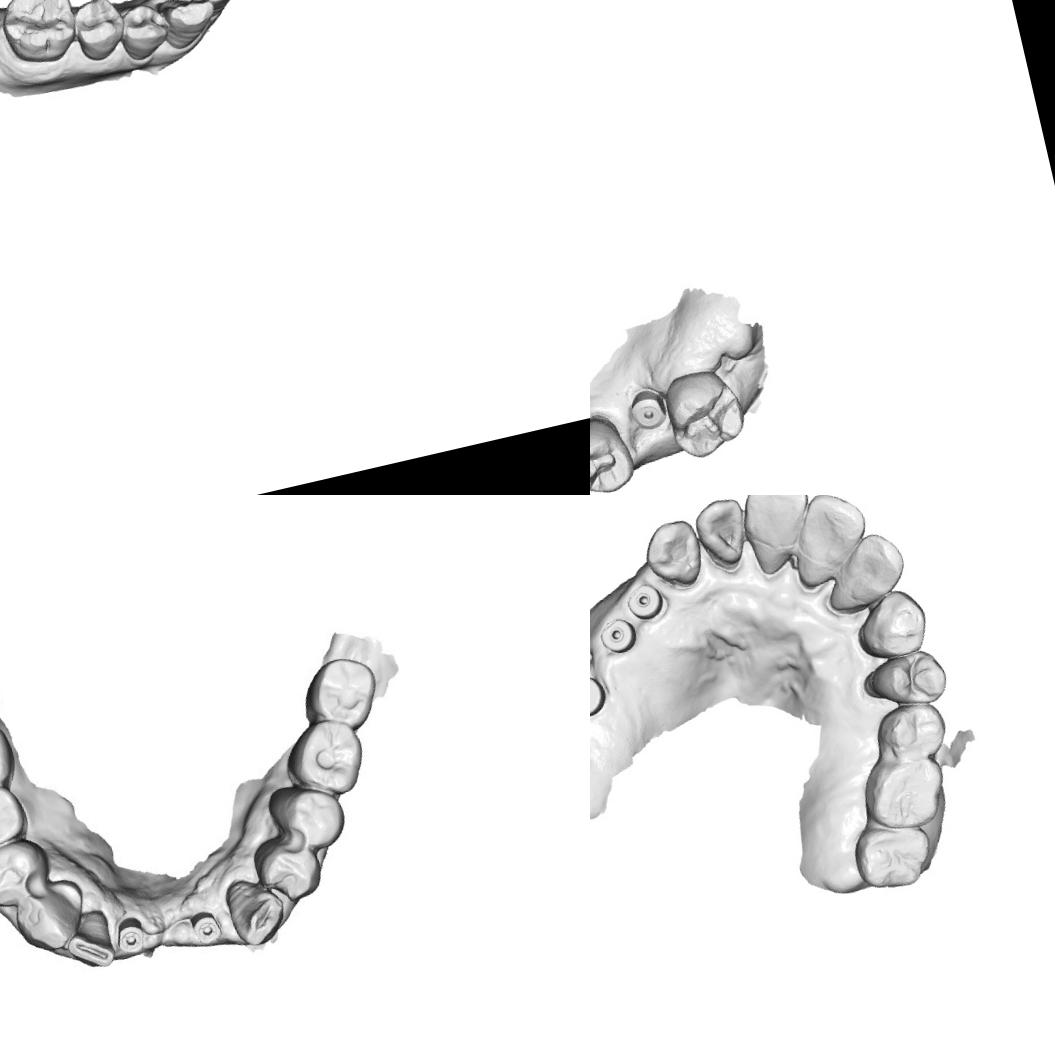canine: (848, 583, 934, 665), (10, 880, 90, 956), (219, 872, 294, 952), (638, 514, 708, 594), (158, 0, 221, 52)
implant: (624, 387, 670, 434), (622, 580, 669, 625), (596, 615, 640, 658), (590, 671, 611, 723)
implant_plus: (184, 905, 229, 954), (114, 917, 152, 957)
incisor: (735, 495, 820, 570), (790, 495, 873, 570), (835, 526, 912, 606), (690, 495, 756, 577), (62, 906, 122, 970), (182, 0, 249, 12)
inlay: (590, 441, 625, 494)
molar: (659, 362, 754, 466), (273, 714, 370, 806), (288, 650, 384, 742), (856, 750, 954, 838), (849, 818, 939, 897), (0, 0, 85, 72), (0, 711, 18, 803)
premolar: (262, 772, 349, 854), (856, 644, 952, 718), (246, 831, 323, 908), (870, 696, 952, 766), (0, 834, 55, 913), (66, 0, 131, 65), (111, 0, 175, 65), (0, 783, 28, 857)
